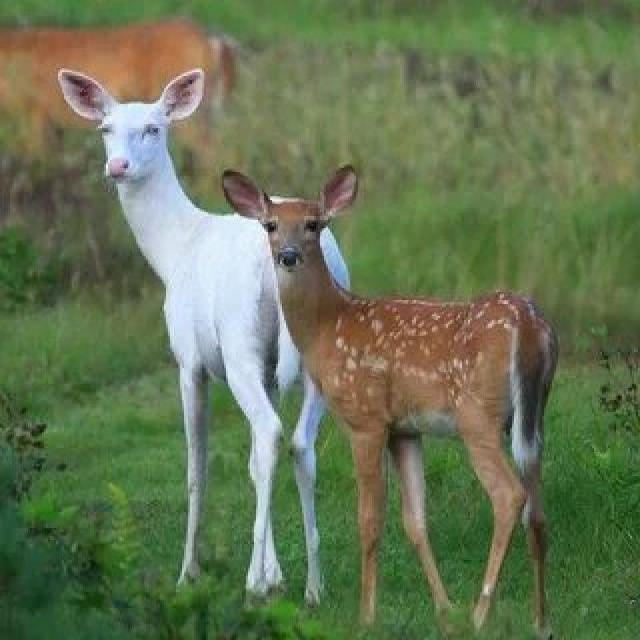deer: (36, 52, 376, 560), (235, 163, 588, 513)
